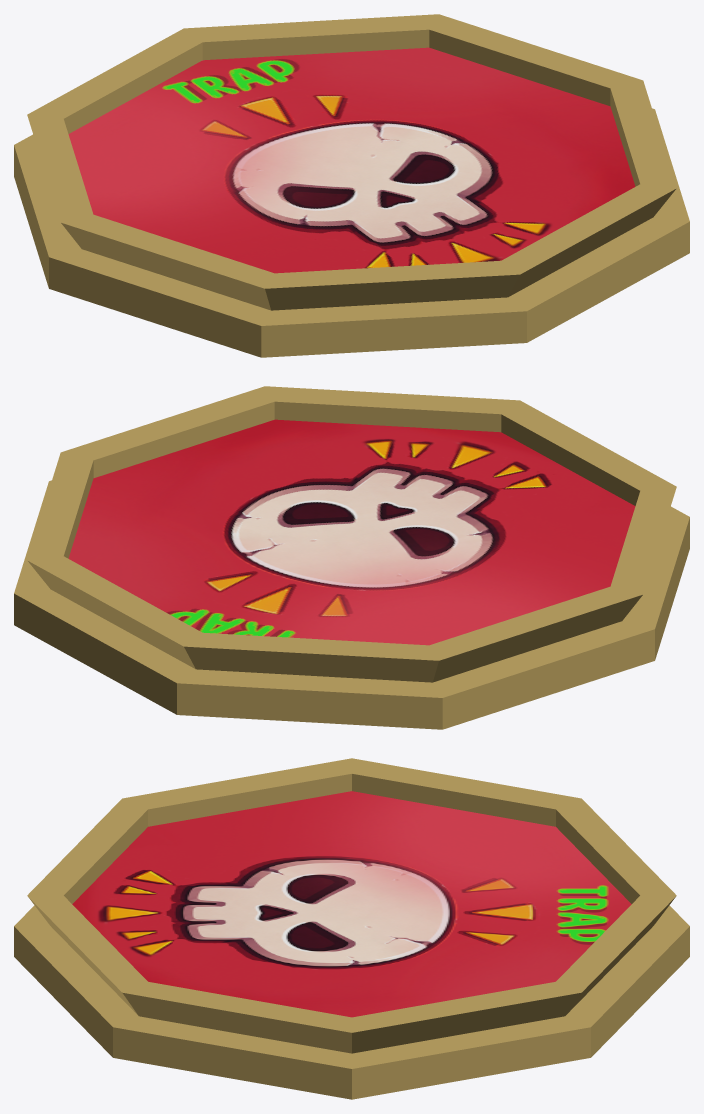
The model's file is tile0 cdparty.fbx.
3 views of the same model, one above another, from view 1: azimuth 30°, elevation 25°; view 2: azimuth 150°, elevation 25°; view 3: azimuth 270°, elevation 25° (orthographic). The views are drawn at different scales.
Visible parts, largest first — view 1: pCylinder2; view 2: pCylinder2; view 3: pCylinder2.
Part boxes in pixels (bbox=[...]): pCylinder2: bbox=[14, 14, 689, 357]; pCylinder2: bbox=[14, 386, 689, 729]; pCylinder2: bbox=[14, 758, 689, 1099].
Bounding box in the file's own units: 2 × 0.2 × 2.
Materials: 2 (1 with a texture image).
